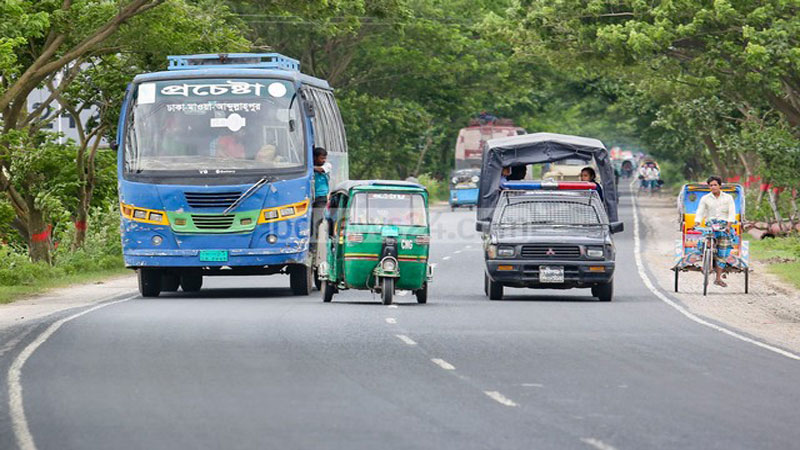Rickshaw: (671, 165, 751, 304)
